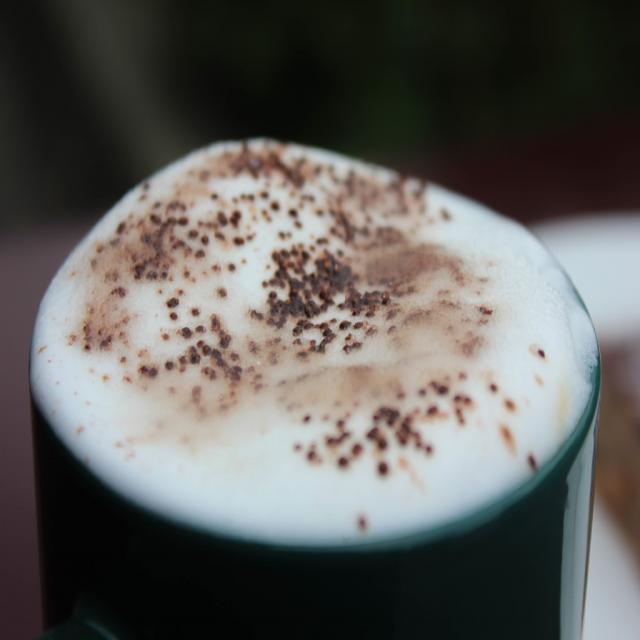Coffee: (9, 112, 599, 630)
